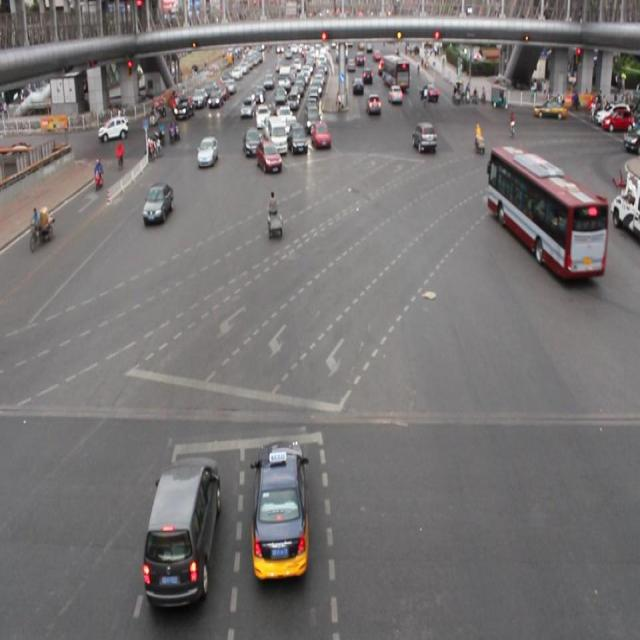car: (251, 438, 310, 584), (143, 181, 174, 223), (255, 140, 280, 172), (411, 122, 435, 154), (196, 134, 218, 168), (287, 123, 308, 156), (310, 119, 330, 151), (242, 127, 260, 155)
truck: (142, 455, 218, 606), (266, 115, 288, 154)
van: (486, 148, 602, 273)
